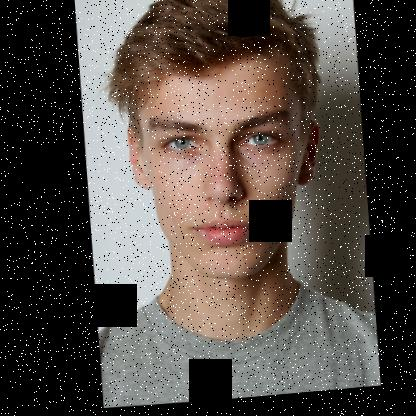Male: (116, 46, 325, 291)
